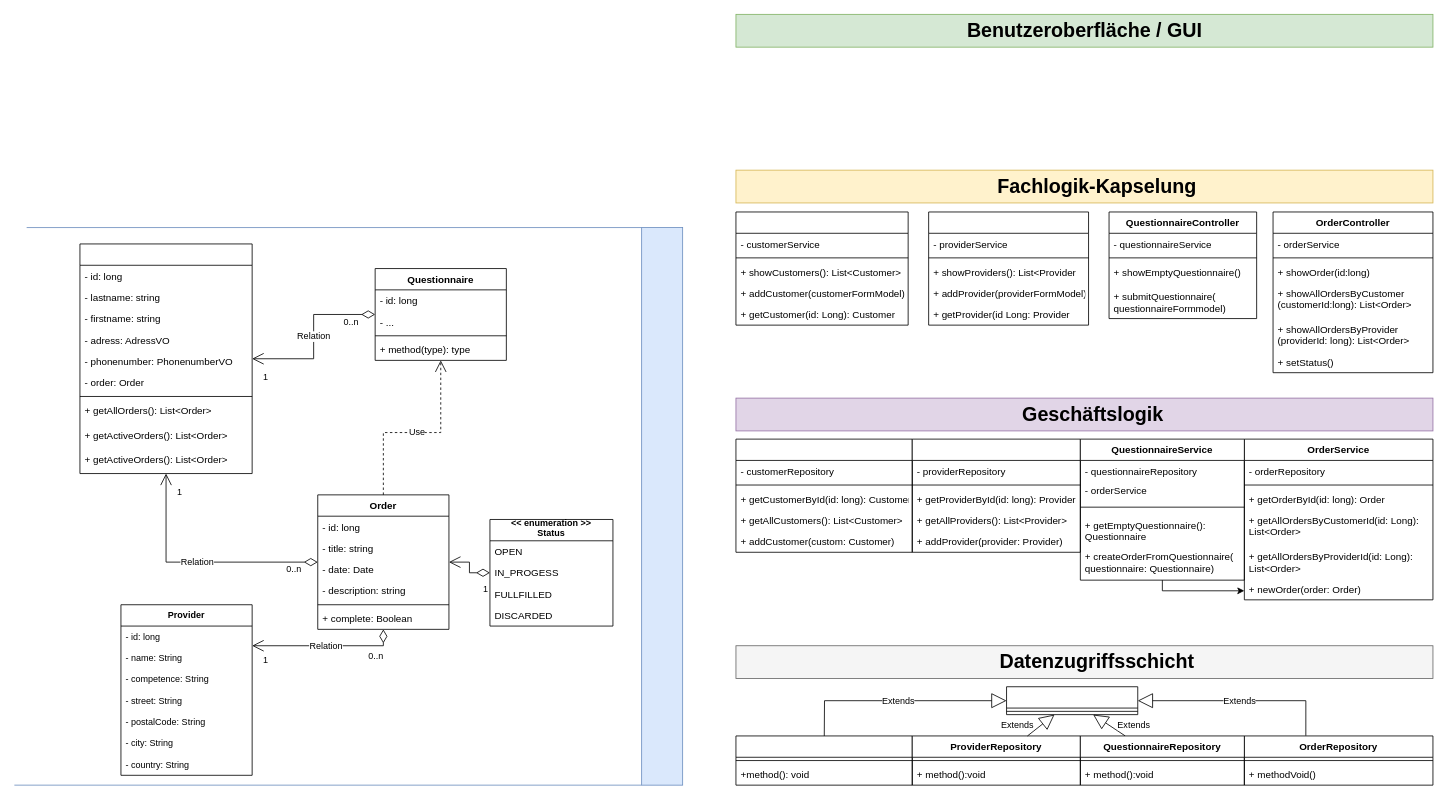
Image size: 1447x802. Some labels were removed from this diagram. Each missing label, with the box of its shape:
CrudRepository: (1006, 686, 1138, 715)
Customer: (79, 243, 252, 474)
CustomerController: (735, 211, 908, 325)
CustomerRepository: (735, 735, 912, 785)
CustomerService: (735, 438, 912, 552)
ENTITIES / VOs: (641, 227, 683, 785)
ProviderController: (928, 211, 1089, 325)
ProviderService: (911, 438, 1080, 552)
